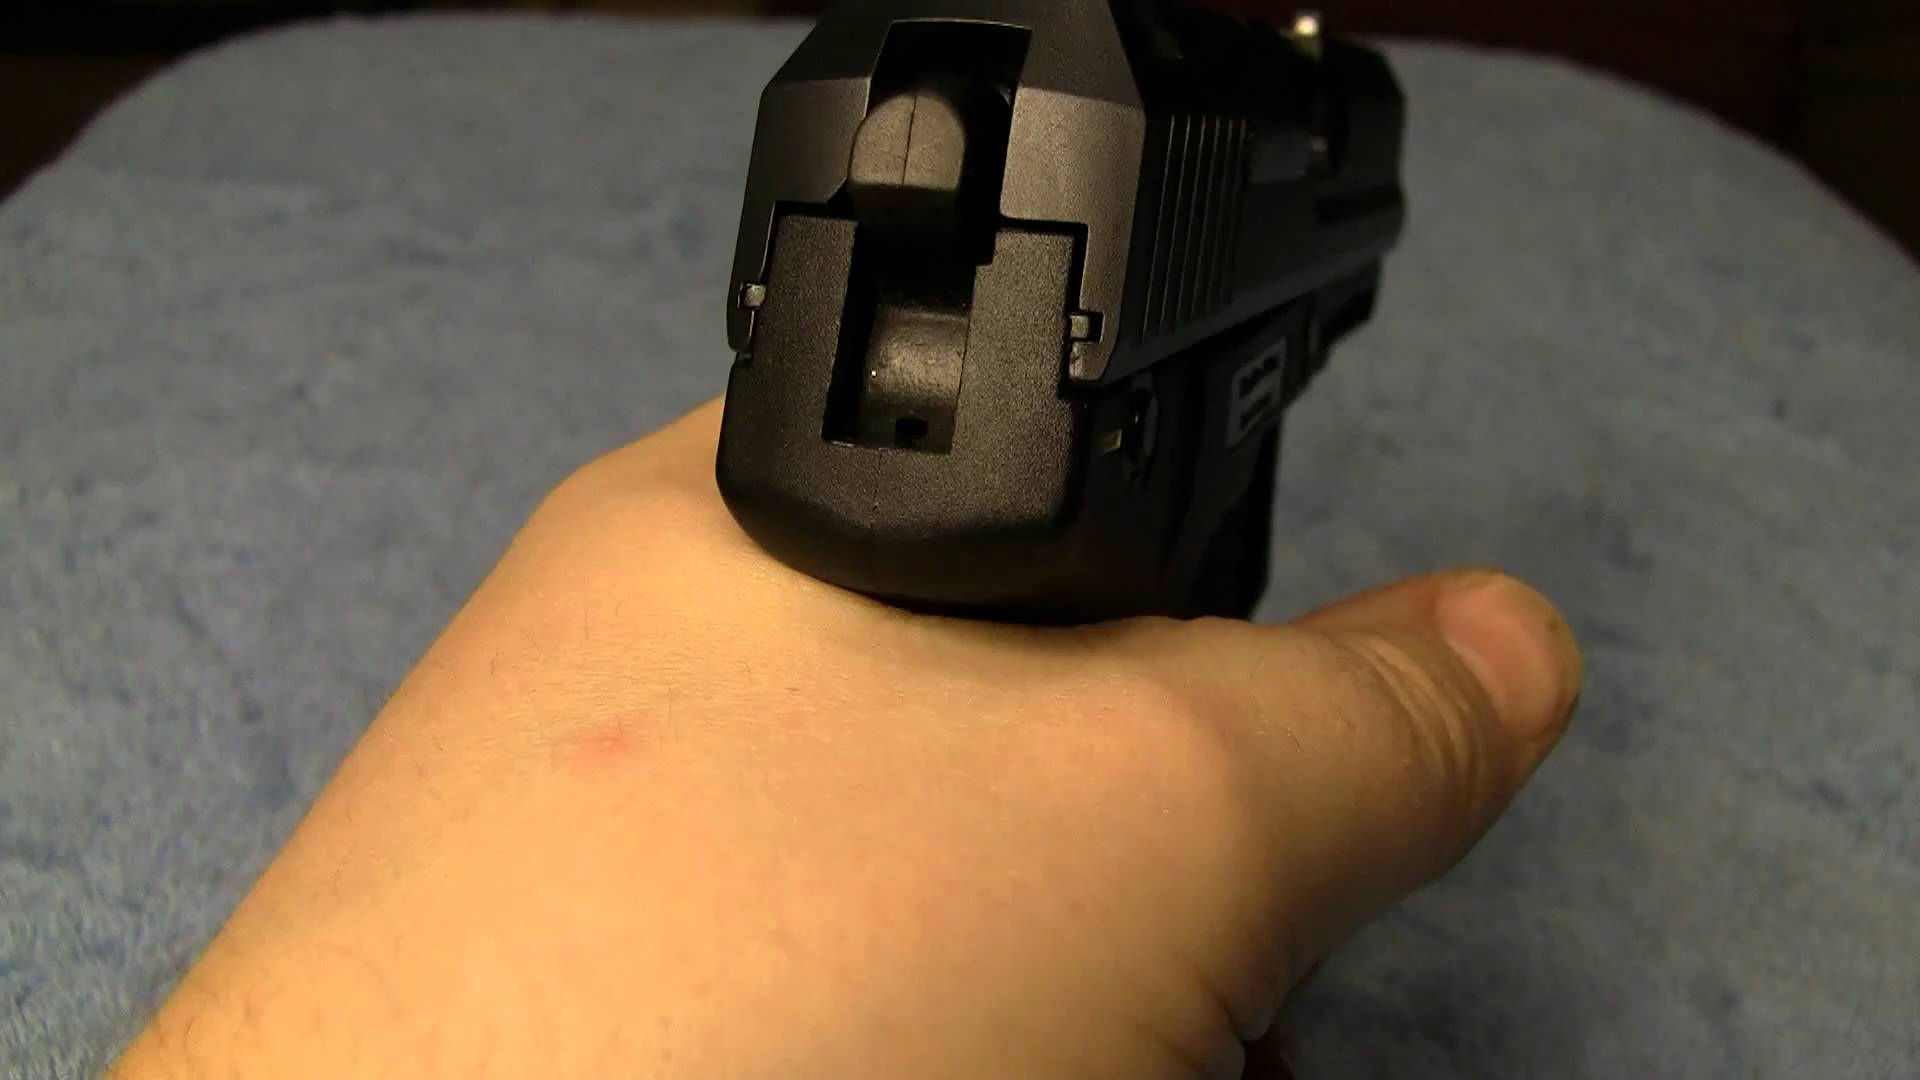pistol: (63, 7, 1698, 1080)
